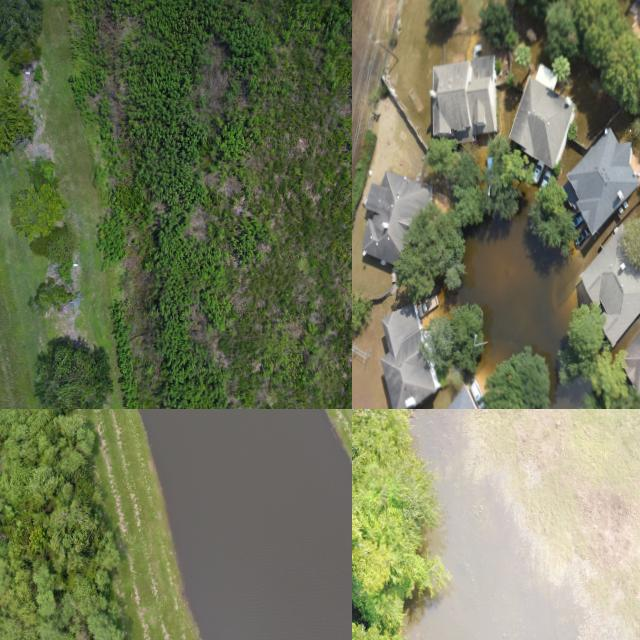fire: (406, 409, 628, 640), (139, 409, 352, 640), (447, 186, 590, 409)
